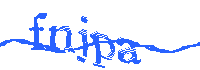a: (115, 39, 142, 66)
f: (29, 10, 46, 51)
j: (76, 15, 91, 65)
n: (48, 23, 74, 55)
p: (93, 29, 116, 70)
